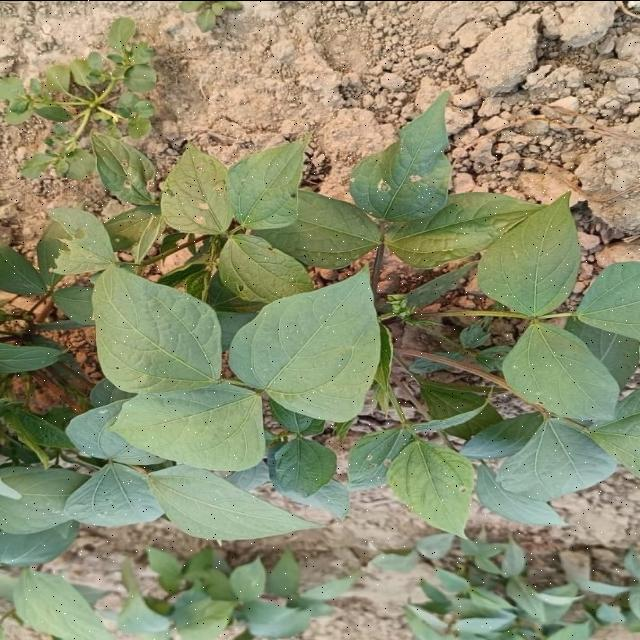plant: (0, 92, 638, 565)
